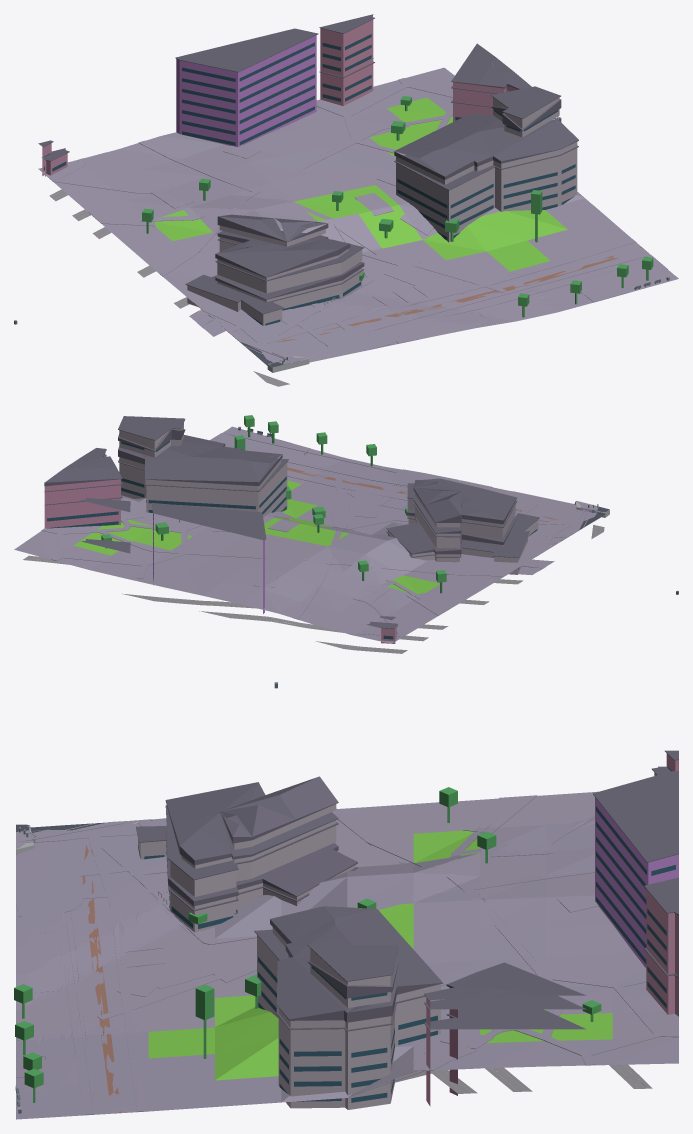
3 views of the same model, one above another, from view 1: azimuth 30°, elevation 25°; view 2: azimuth 150°, elevation 25°; view 3: azimuth 270°, elevation 25° (orthographic). The views are drawn at different scales.
Visible parts, largest first — view 1: compiled-chunk; view 2: compiled-chunk; view 3: compiled-chunk.
Boxes of the visible parts, x1,y1,x2,y2 form: compiled-chunk: [14, 14, 678, 386]; compiled-chunk: [14, 415, 678, 653]; compiled-chunk: [14, 682, 678, 1119].
Bounding box in the file's own units: 169 × 35.46 × 120.
